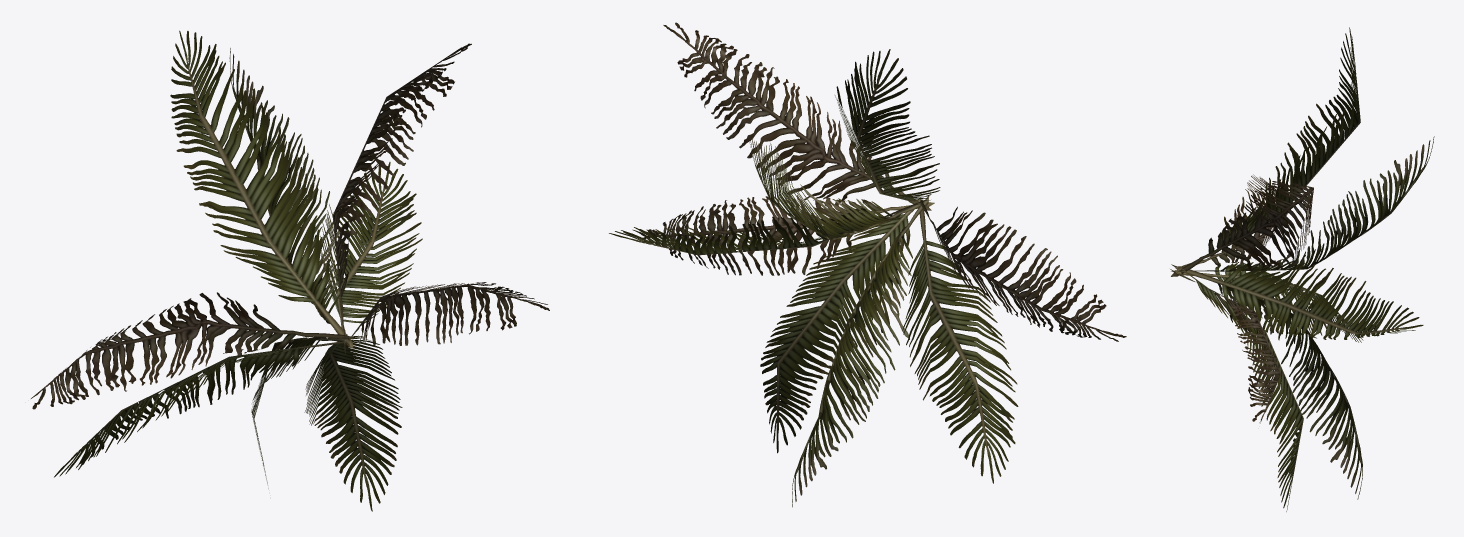
File: MEP_Palm_Leafs_06.fbx
3 views of the same model, side by side, from view 1: azimuth 30°, elevation 25°; view 2: azimuth 150°, elevation 25°; view 3: azimuth 270°, elevation 25° (orthographic). The views are drawn at different scales.
Parts seen in each view (by area): view 1: MEP_Palm_Leafs_06; view 2: MEP_Palm_Leafs_06; view 3: MEP_Palm_Leafs_06.
Part boxes in pixels (x1,y1,x2,y2): MEP_Palm_Leafs_06: (31, 30, 549, 511); MEP_Palm_Leafs_06: (609, 22, 1126, 507); MEP_Palm_Leafs_06: (1170, 27, 1434, 511).
Bounding box in the file's own units: 3.41 × 3.22 × 1.81.
